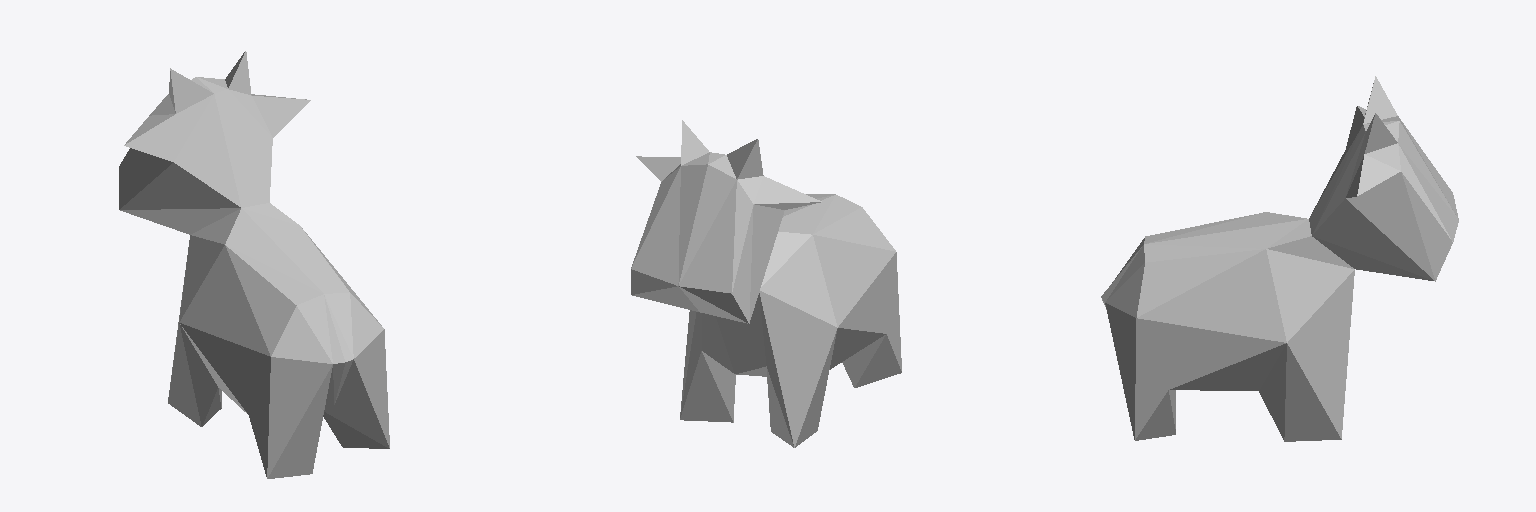
The model's file is spot_simplified.obj.
3 views of the same model, side by side, from view 1: azimuth 30°, elevation 25°; view 2: azimuth 150°, elevation 25°; view 3: azimuth 270°, elevation 25° (orthographic).
Parts seen in each view (by area): view 1: spot_triangulated; view 2: spot_triangulated; view 3: spot_triangulated.
Boxes of the visible parts, x1,y1,x2,y2 form: spot_triangulated: [119, 51, 389, 478]; spot_triangulated: [631, 120, 901, 447]; spot_triangulated: [1101, 76, 1458, 441].
Bounding box in the file's own units: 1.74 × 2.88 × 2.88.